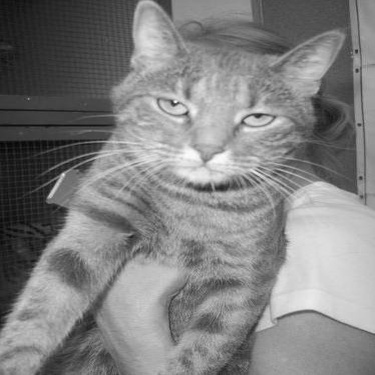cat: (7, 1, 345, 370)
